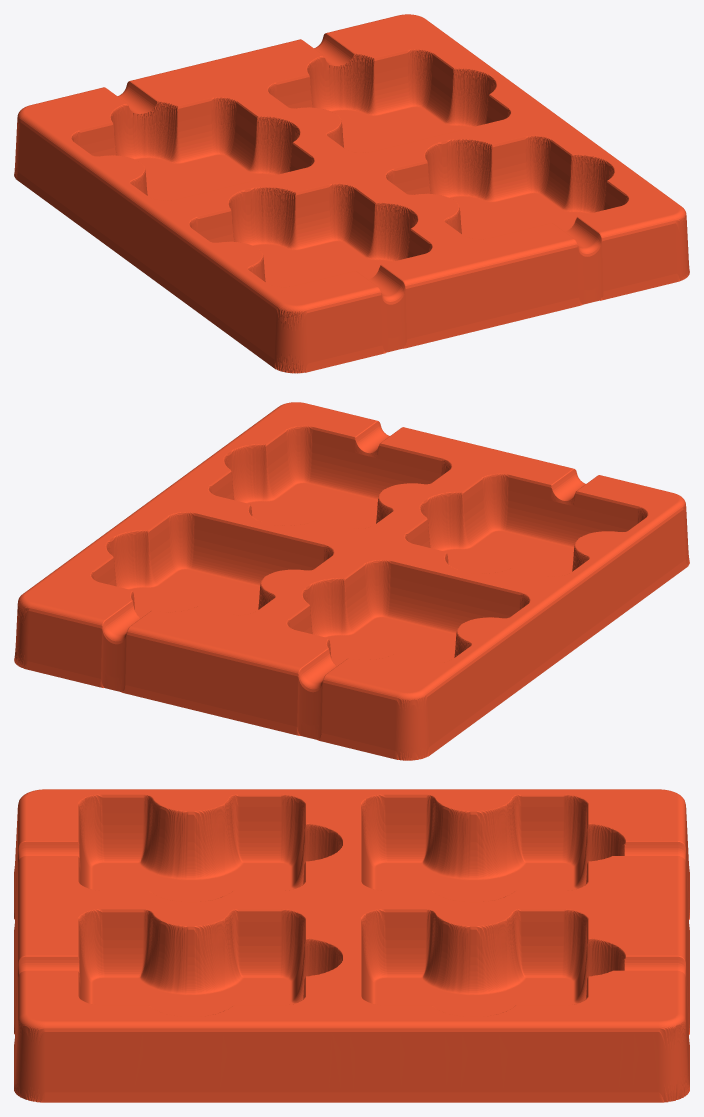
Rendered from mold.glb.
The picture shows the model from 3 angles, top to bottom: view 1: azimuth 30°, elevation 25°; view 2: azimuth 150°, elevation 25°; view 3: azimuth 270°, elevation 25°; orthographic projection. The views are drawn at different scales.
Visible parts, largest first — view 1: geometry_0; view 2: geometry_0; view 3: geometry_0.
Part boxes in pixels (x1,y1,x2,y2): geometry_0: (14, 14, 689, 373); geometry_0: (14, 402, 689, 760); geometry_0: (14, 789, 689, 1102).
Bounding box in the file's own units: 0.1663 × 0.0245 × 0.1968.
